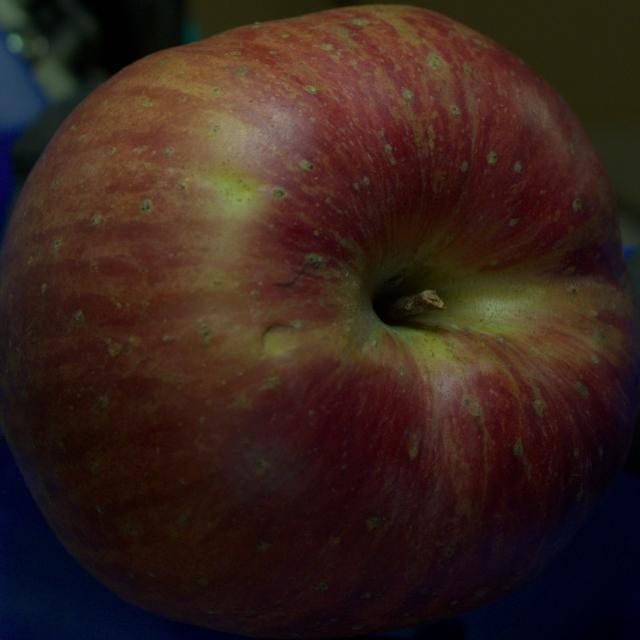apple: (0, 6, 639, 638)
bruise: (263, 321, 302, 355)
scratch: (274, 262, 311, 287)
